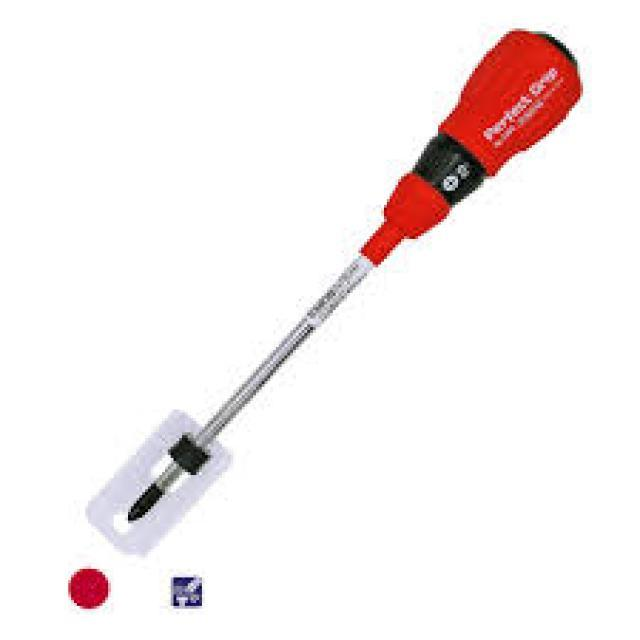screwdriver: (123, 26, 584, 526)
